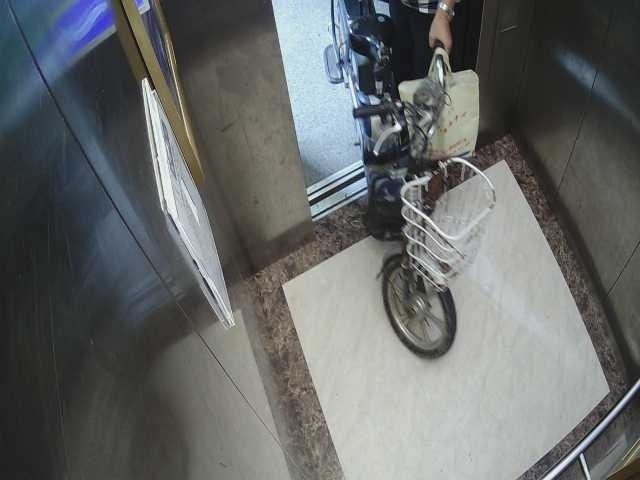emotor: (320, 2, 492, 369)
